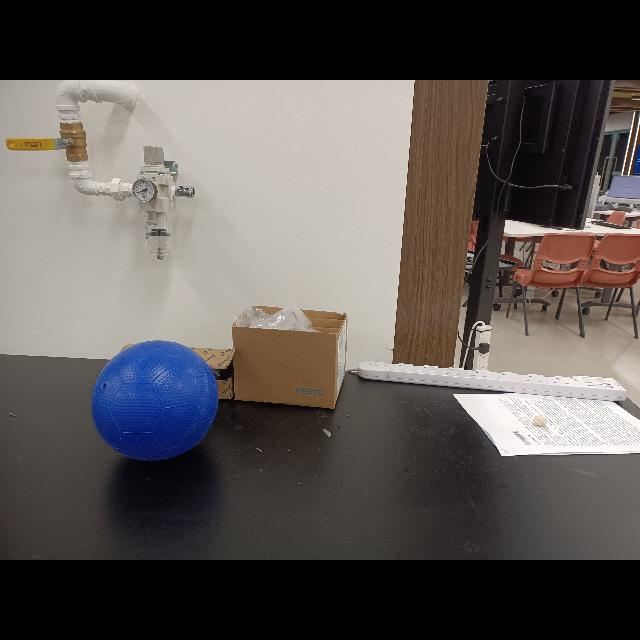B: (92, 340, 218, 462)
